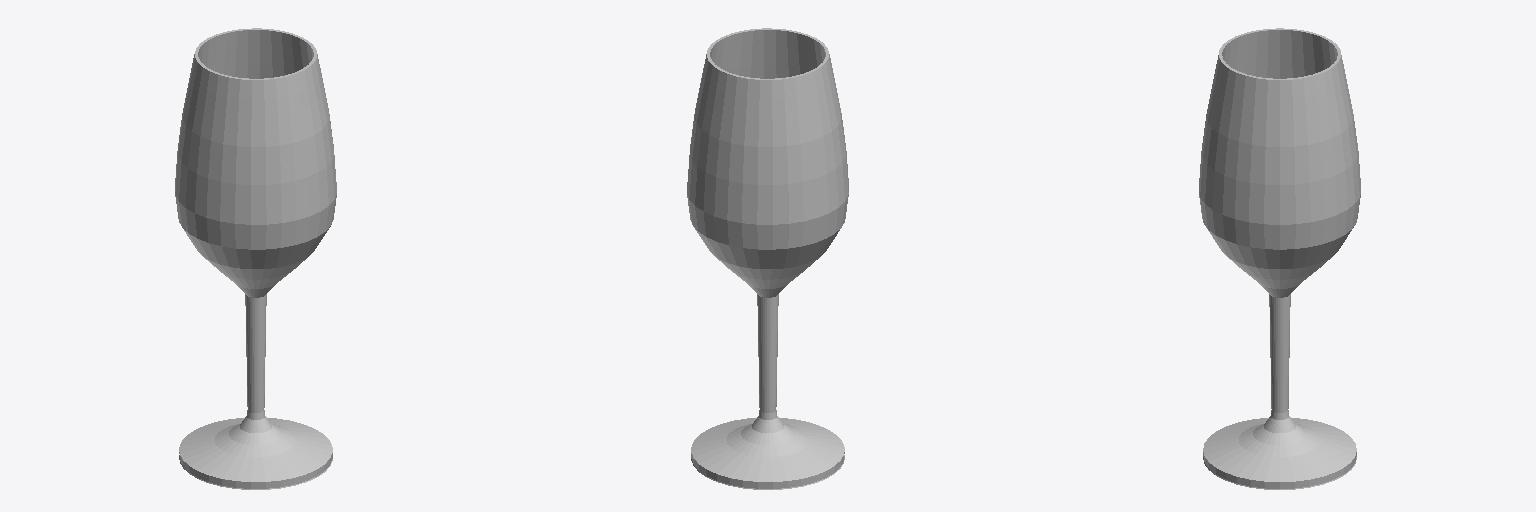
The model's file is Glass2.obj.
3 renders of one model, left to right at view 1: azimuth 30°, elevation 25°; view 2: azimuth 150°, elevation 25°; view 3: azimuth 270°, elevation 25°, orthographic.
Visible parts, largest first — view 1: Circle; view 2: Circle; view 3: Circle.
Part boxes in pixels (x1,y1,x2,y2): Circle: (175, 28, 336, 489); Circle: (687, 28, 848, 489); Circle: (1199, 28, 1360, 489).
Size of the model in its own units: 0.7299 by 2 by 0.7299.